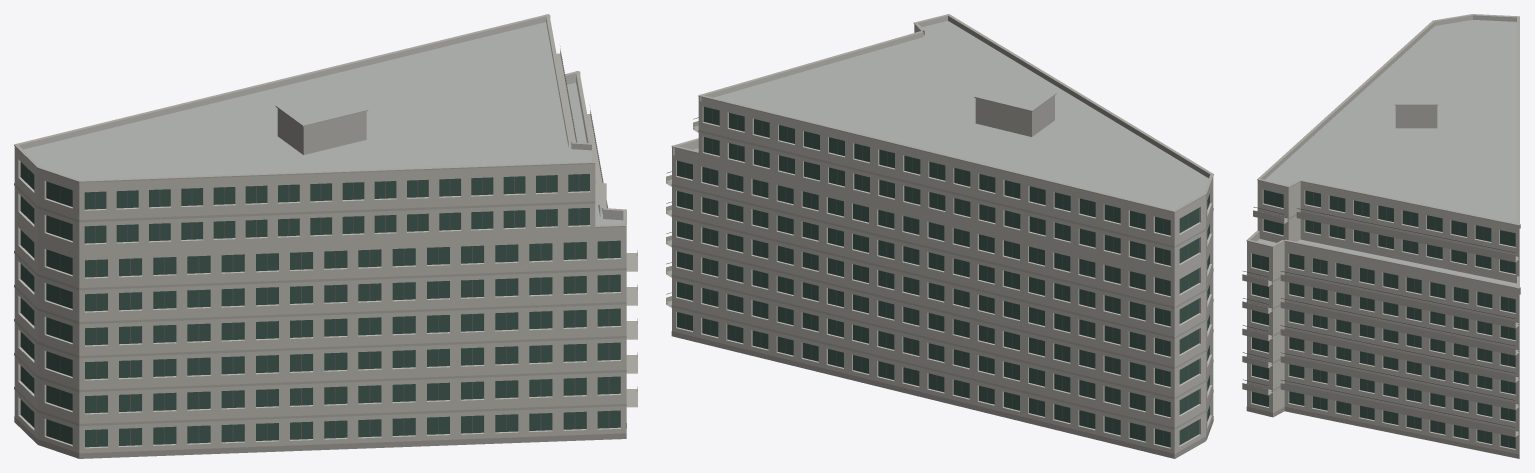
3 renders of one model, left to right at view 1: azimuth 30°, elevation 25°; view 2: azimuth 150°, elevation 25°; view 3: azimuth 270°, elevation 25°, orthographic. The views are drawn at different scales.
Visible parts, largest first — view 1: jaesungCivil__wall, jaesungCivil__glass, jaesungCivil__roof, jaesungCivil__trim, jaesungCivil__parapet, jaesungCivil__base, jaesungCivil__frame, jaesungCivil__wall2; view 2: jaesungCivil__wall, jaesungCivil__glass, jaesungCivil__roof, jaesungCivil__trim, jaesungCivil__parapet, jaesungCivil__frame, jaesungCivil__base, jaesungCivil__wall2; view 3: jaesungCivil__wall, jaesungCivil__roof, jaesungCivil__glass, jaesungCivil__trim, jaesungCivil__parapet, jaesungCivil__frame, jaesungCivil__base, jaesungCivil__wall2.
Boxes of the visible parts, x1,y1,x2,y2 form: jaesungCivil__wall: (14, 150, 626, 458); jaesungCivil__glass: (20, 162, 620, 447); jaesungCivil__roof: (23, 22, 623, 225); jaesungCivil__trim: (14, 14, 637, 426); jaesungCivil__parapet: (14, 15, 626, 235); jaesungCivil__base: (14, 416, 626, 458); jaesungCivil__frame: (28, 46, 609, 446); jaesungCivil__wall2: (277, 108, 366, 154); jaesungCivil__wall: (672, 28, 1213, 458); jaesungCivil__glass: (677, 106, 1209, 447); jaesungCivil__roof: (693, 21, 1208, 209); jaesungCivil__trim: (666, 14, 1213, 429); jaesungCivil__parapet: (672, 16, 1213, 216); jaesungCivil__frame: (666, 108, 1188, 445); jaesungCivil__base: (671, 331, 1213, 458); jaesungCivil__wall2: (975, 95, 1054, 136); jaesungCivil__wall: (1247, 184, 1519, 458); jaesungCivil__roof: (1257, 20, 1516, 286); jaesungCivil__glass: (1252, 190, 1515, 448); jaesungCivil__trim: (1242, 14, 1520, 437); jaesungCivil__parapet: (1247, 15, 1520, 295); jaesungCivil__frame: (1242, 192, 1515, 447); jaesungCivil__base: (1246, 406, 1519, 458); jaesungCivil__wall2: (1395, 105, 1437, 128).
Size of the model in its own units: 64.29 by 32 by 33.39.
